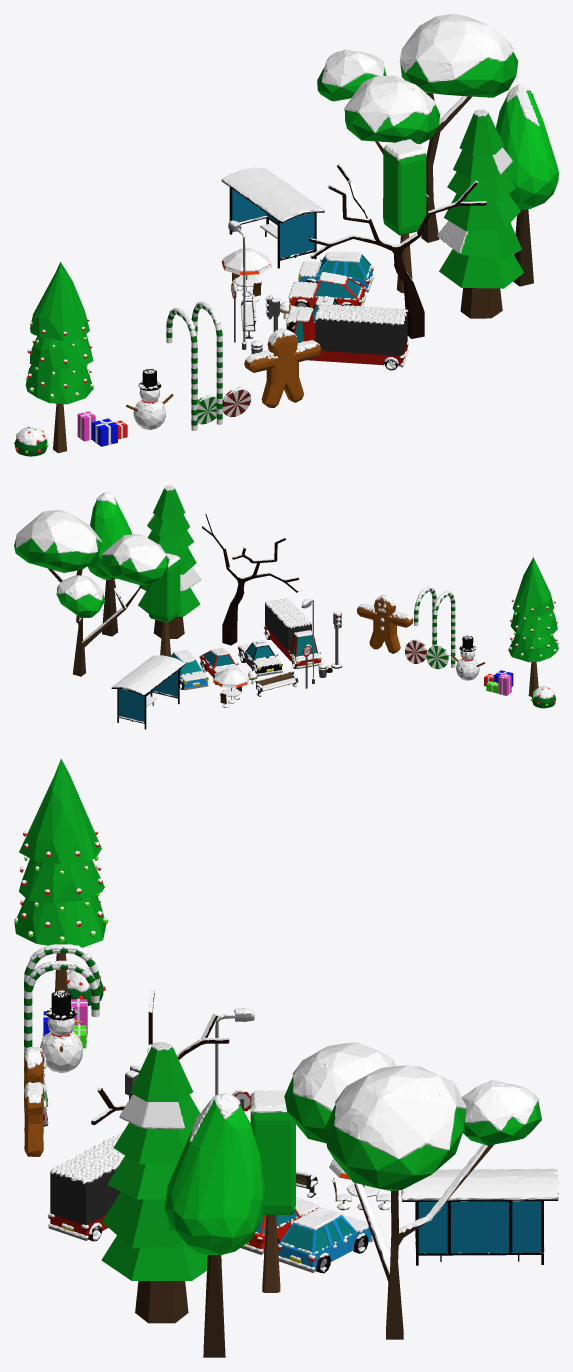
File: snow.fbx
3 renders of one model, top to bottom at view 1: azimuth 30°, elevation 25°; view 2: azimuth 150°, elevation 25°; view 3: azimuth 270°, elevation 25°, orthographic. The views are drawn at different scales.
Visible parts, largest first — view 1: Tree1, SnowBall.003, Tree3, Tree4, Tree6, Truck1, Tree5, Cube.004, Tree2, SnowBall.001, Bus Stop, SnowBall.017 (+14 smaller); view 2: SnowBall.003, Tree4, Tree3, Tree1, Tree6, Tree5, Cube.004, Tree2, SnowBall.001, Truck1, Bus Stop, SnowBall.017 (+16 smaller); view 3: SnowBall.003, Tree1, Tree6, Tree3, Tree4, Bus Stop, Tree5, SnowBall.001, Truck1, Car1, snowglobe, Cube.004 (+10 smaller).
Boxes of the visible parts, x1,y1,x2,y2 form: Tree1: [439, 113, 523, 318]; SnowBall.003: [322, 14, 513, 196]; Tree3: [25, 262, 93, 453]; Tree4: [317, 52, 518, 242]; Tree6: [496, 91, 558, 286]; Truck1: [293, 306, 408, 370]; Tree5: [383, 149, 426, 293]; Cube.004: [244, 328, 321, 407]; Tree2: [309, 163, 486, 338]; SnowBall.001: [222, 167, 323, 258]; Bus Stop: [221, 173, 324, 268]; SnowBall.017: [296, 303, 408, 369]; SnowBall.003: [16, 510, 169, 642]; Tree4: [14, 539, 168, 676]; Tree3: [508, 557, 558, 696]; Tree1: [138, 489, 200, 638]; Tree6: [87, 498, 132, 636]; Tree5: [149, 559, 180, 656]; Cube.004: [356, 594, 413, 653]; Tree2: [202, 513, 299, 645]; SnowBall.001: [112, 655, 185, 722]; Truck1: [264, 600, 321, 669]; Bus Stop: [111, 664, 185, 729]; SnowBall.017: [263, 598, 321, 667]; SnowBall.003: [292, 1042, 539, 1274]; Tree1: [101, 1047, 221, 1323]; Tree6: [165, 1100, 265, 1357]; Tree3: [14, 758, 108, 991]; Tree4: [284, 1076, 541, 1339]; Bus Stop: [401, 1192, 558, 1265]; Tree5: [250, 1101, 295, 1292]; SnowBall.001: [400, 1168, 558, 1253]; Truck1: [48, 1168, 120, 1241]; Car1: [278, 1214, 372, 1273]; snowglobe: [40, 990, 82, 1072]; Cube.004: [24, 1046, 46, 1156].
Size of the model in its own units: 4344 by 1440 by 2485.
